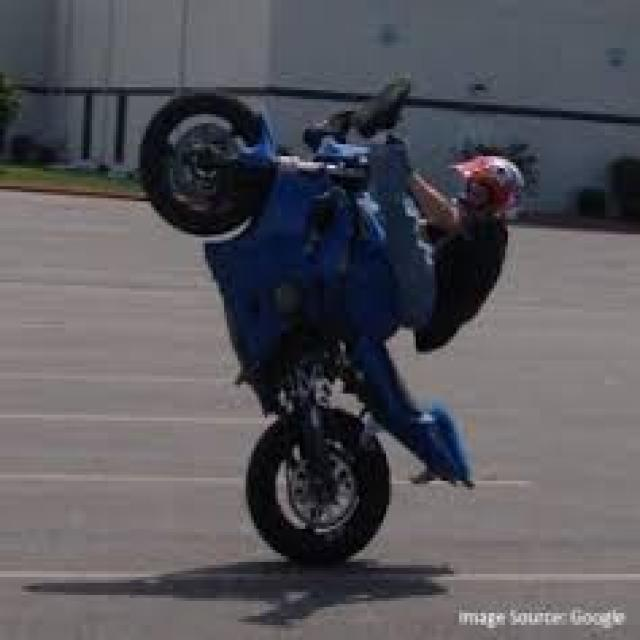Wheeling: (124, 76, 550, 557)
